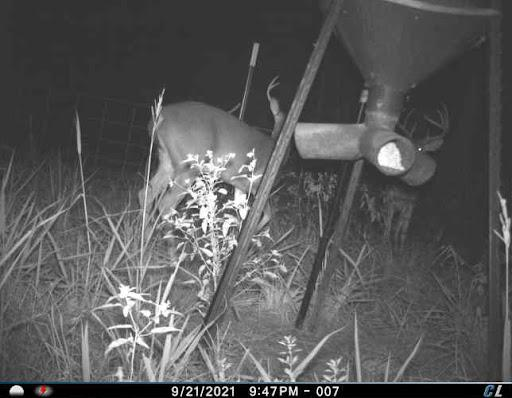Deer: (125, 80, 300, 293), (344, 93, 458, 247)
